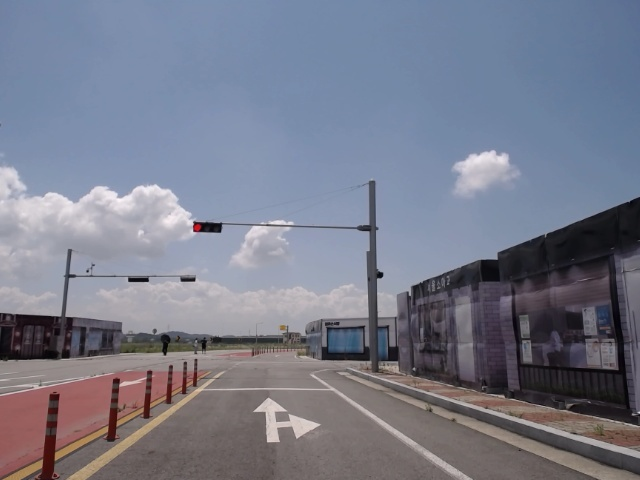red_3: (192, 220, 225, 235)
